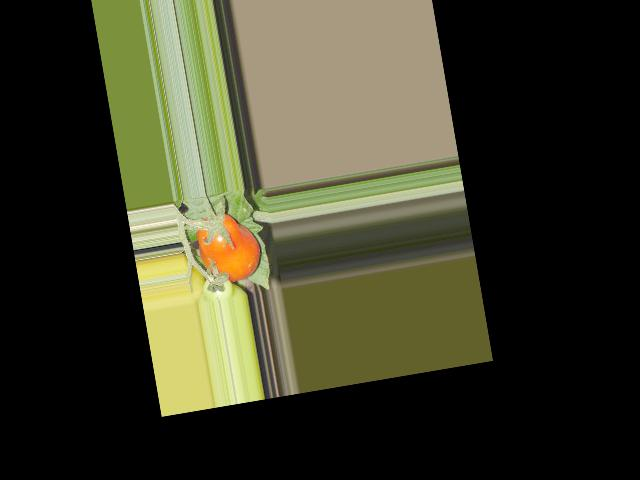tomato: (194, 208, 264, 285)
